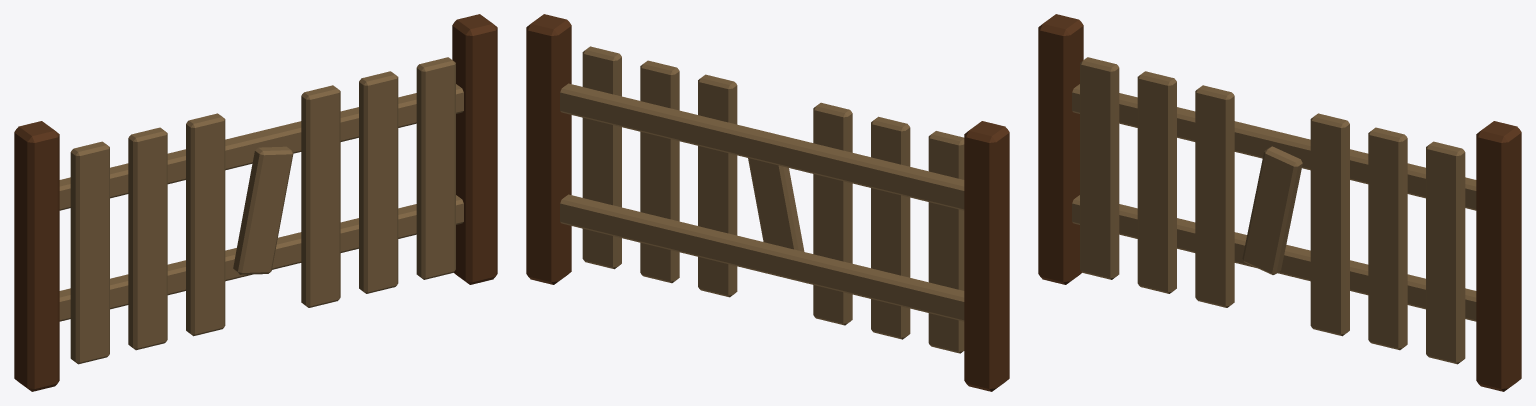
File: fence_panel.glb
The picture shows the model from 3 angles, left to right: view 1: azimuth 30°, elevation 25°; view 2: azimuth 150°, elevation 25°; view 3: azimuth 330°, elevation 25°; orthographic projection.
Visible parts, largest first — view 1: DD_fence_panel; view 2: DD_fence_panel; view 3: DD_fence_panel.
Boxes of the visible parts, box(x1,y1,x2,y2) form: DD_fence_panel: box(14, 14, 497, 391); DD_fence_panel: box(526, 14, 1009, 391); DD_fence_panel: box(1038, 14, 1521, 391).
Size of the model in its own units: 2.04 by 1.06 by 0.155.
